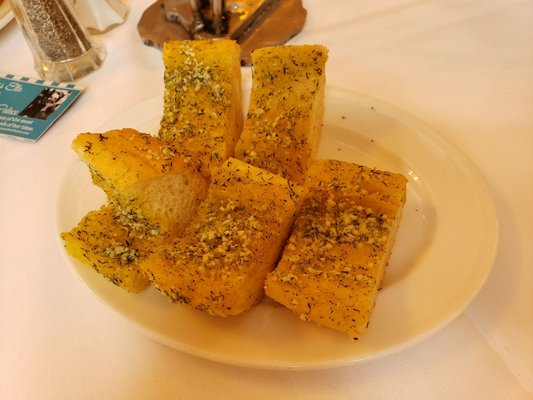curry: (5, 0, 531, 400)
